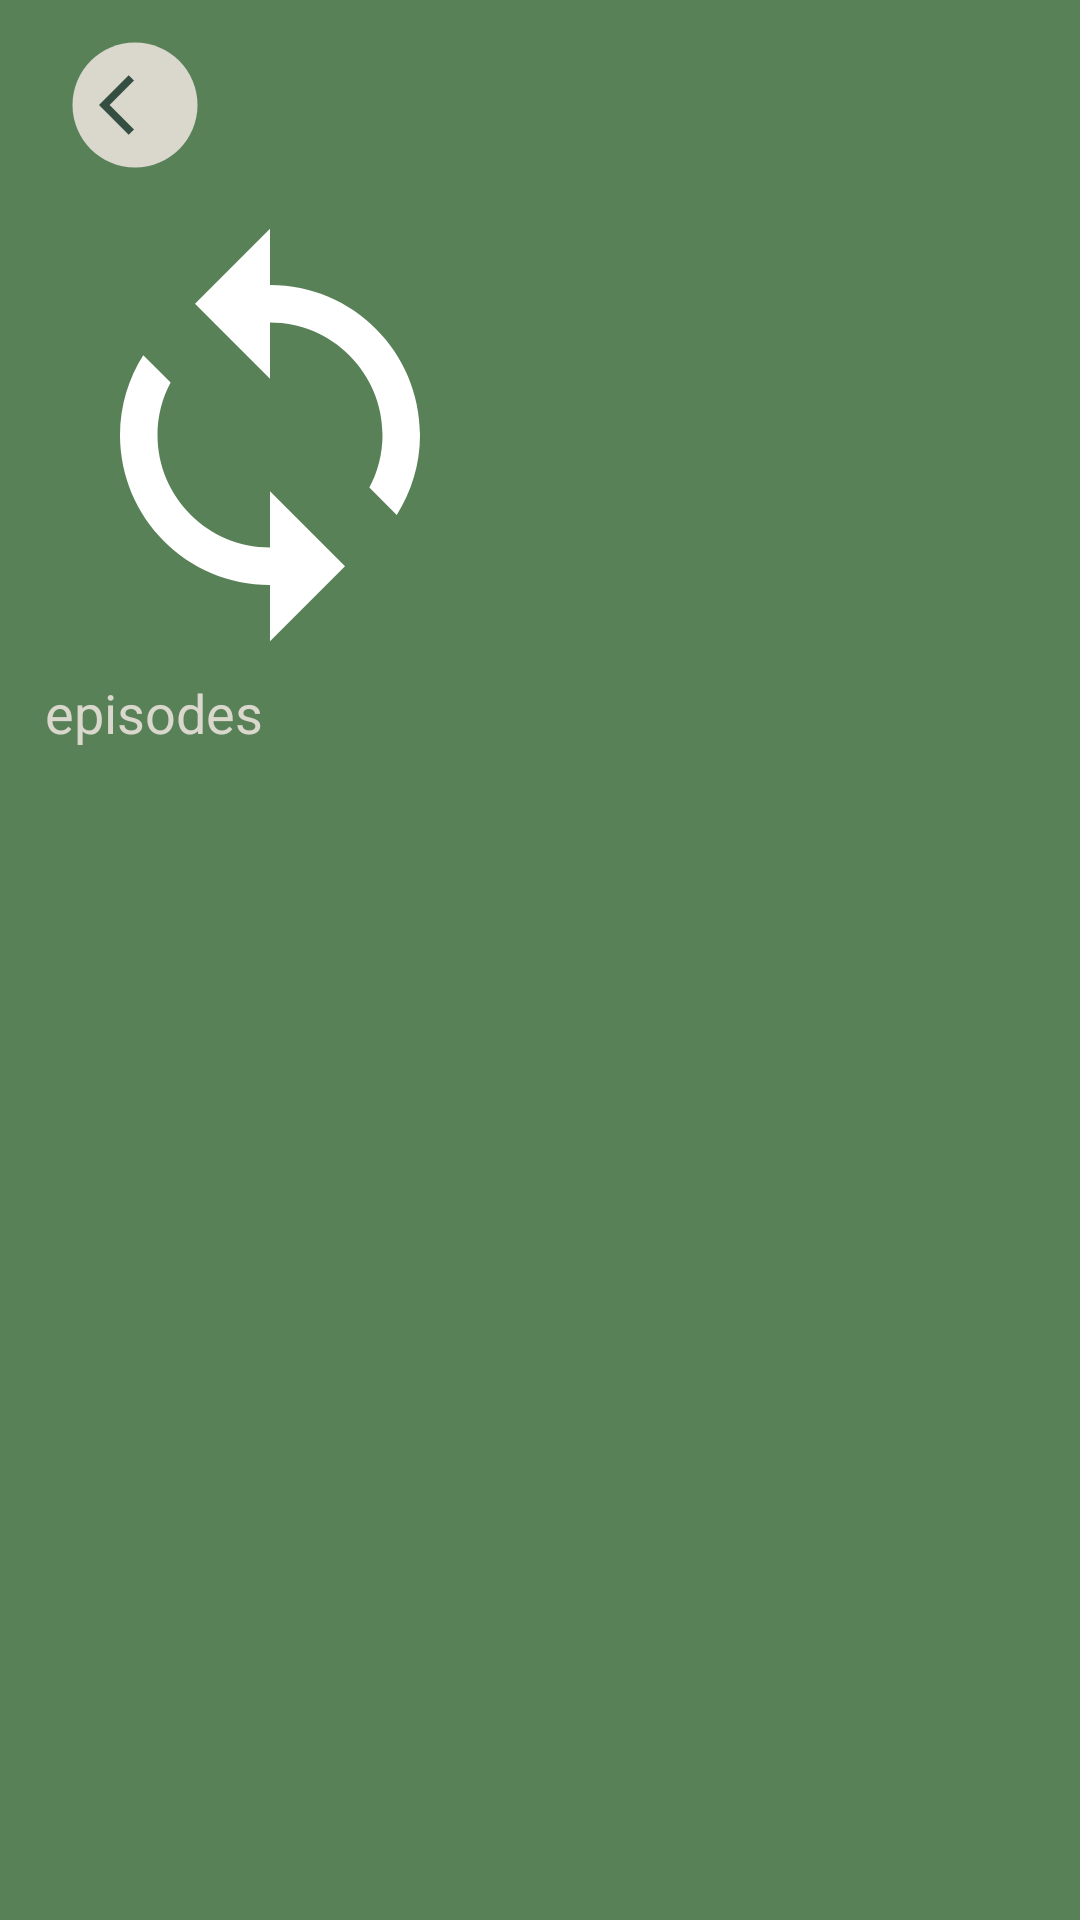

Named icons in this screenshot (1080w x 1920h) and their centers, point (x, y):
back: point (135, 105)
